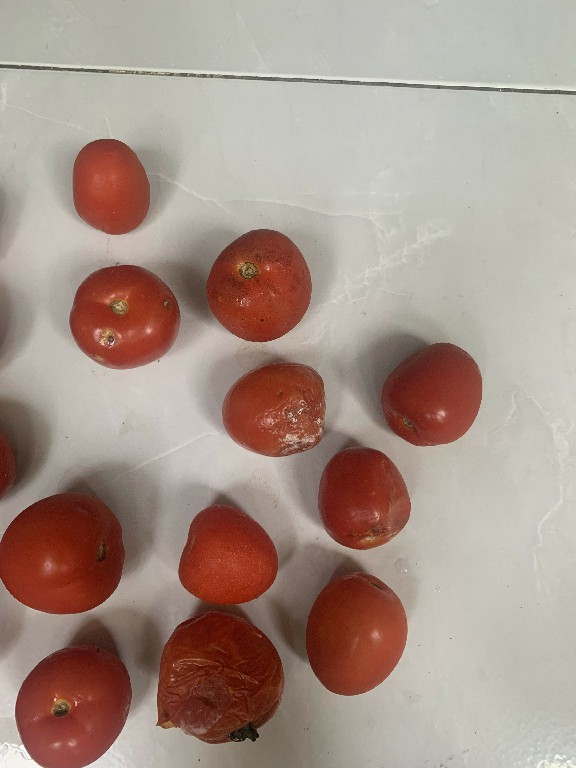NG: (140, 607, 290, 753), (201, 223, 316, 348), (68, 259, 183, 373), (311, 438, 413, 556), (214, 359, 328, 463)
OK: (0, 484, 126, 624), (8, 636, 135, 767), (297, 568, 413, 699), (375, 337, 493, 449), (169, 499, 284, 608), (68, 134, 154, 237)
